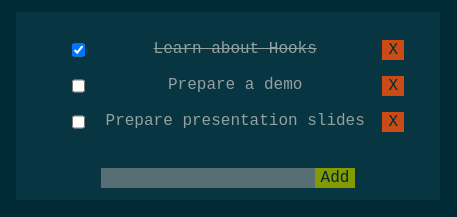
Test: Todos › remove all todos
Click the button "X" next to "Learn about Hooks" at (393, 50), box [382, 40, 404, 60]
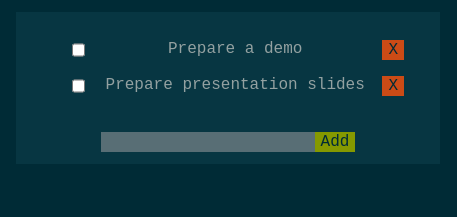
Click the button "X" next to "Prepare a demo" at (393, 50), box [382, 40, 404, 60]
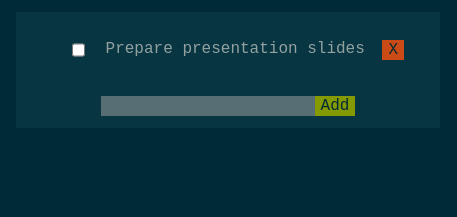
Click the button "X" at (393, 50), box [382, 40, 404, 60]
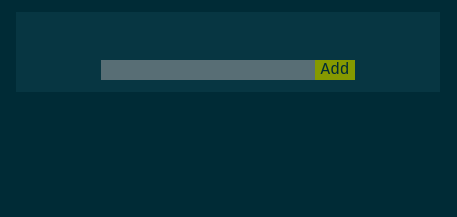
expect no list items are shown: met
